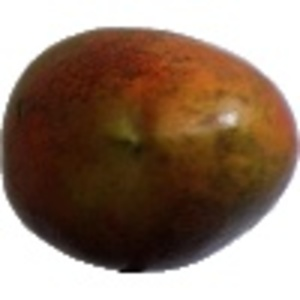manga: (1, 27, 300, 272)
